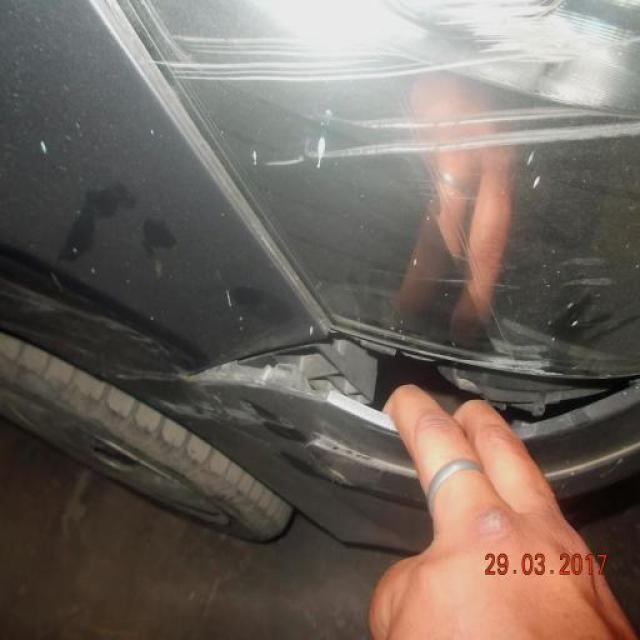car damage: (172, 330, 640, 428), (141, 0, 640, 83), (246, 105, 640, 172)
